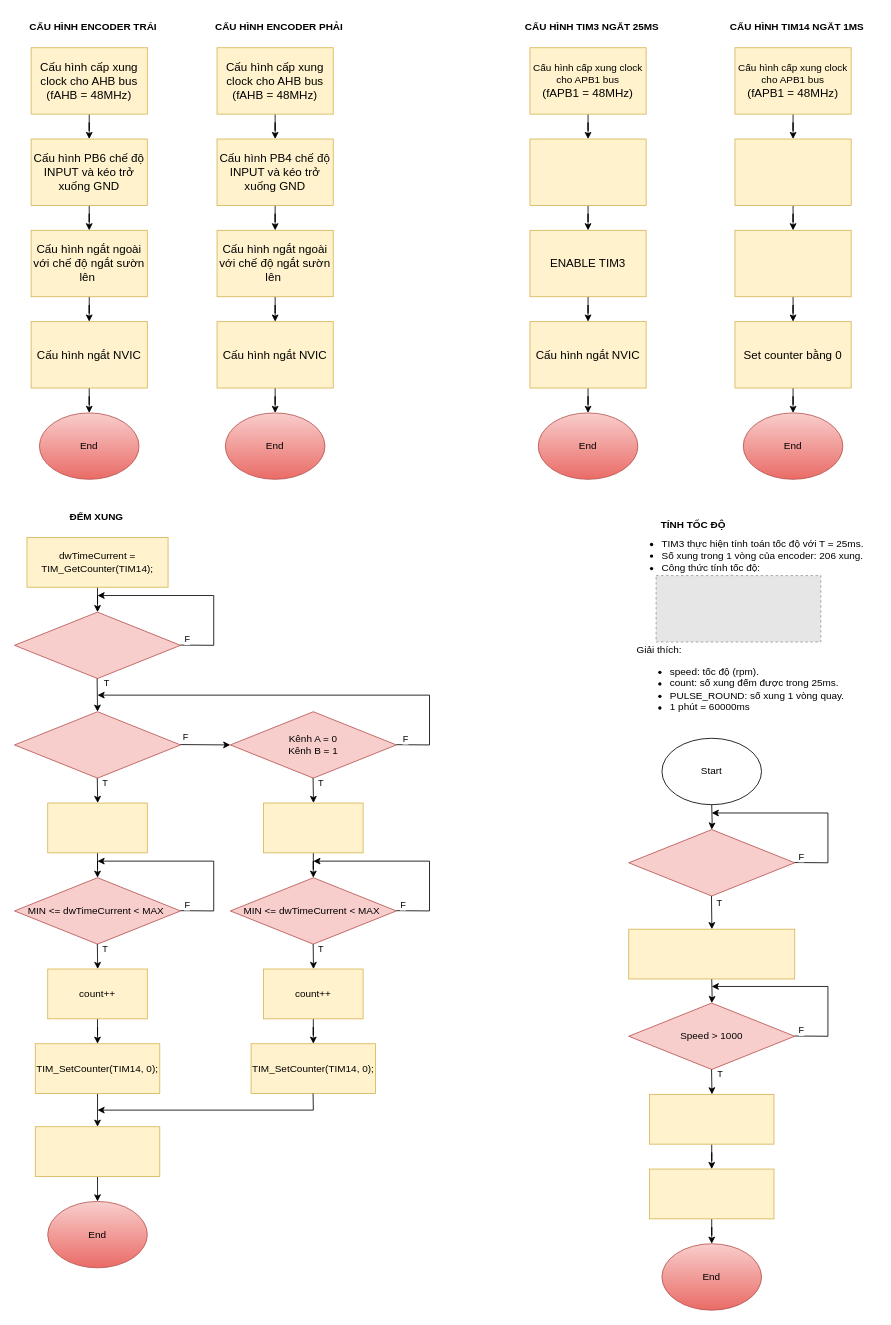
This 891x1325 diagram has some shape labels left out. Grey dashed boxes stand in for pictures. Each missing label, with the box of its shape:
Cấu hình timer base với prescaler = 48 và ARR = 1000 để thực hiện ngắt f = 1kHz: (734, 138, 851, 205)
Cấu hình timer base với prescaler = 48 và ARR = 25000 để thực hiện ngắt f = 40Hz: (529, 138, 646, 205)
dirState = 0; (quay thuận): (47, 802, 147, 853)
dirState = 1; (quay ngược): (263, 802, 363, 853)
ENABLE TIM14: (734, 229, 851, 297)
Kiểm tra cờ ngắt TIM14: (14, 611, 181, 679)
Kiểm tra cờ ngắt TIM3: (628, 829, 795, 896)
Kênh A = 1 Kênh B = 0: (14, 711, 181, 778)
Speed = 1000;: (649, 1094, 774, 1144)
Tính toán tốc độ (quy đổi tốc độ trong 25ms sang 1 phút). Reset count.: (628, 928, 795, 979)
Xoá cờ ngắt TIM14: (34, 1126, 160, 1177)
Xoá cờ ngắt TIM3: (649, 1168, 774, 1219)
